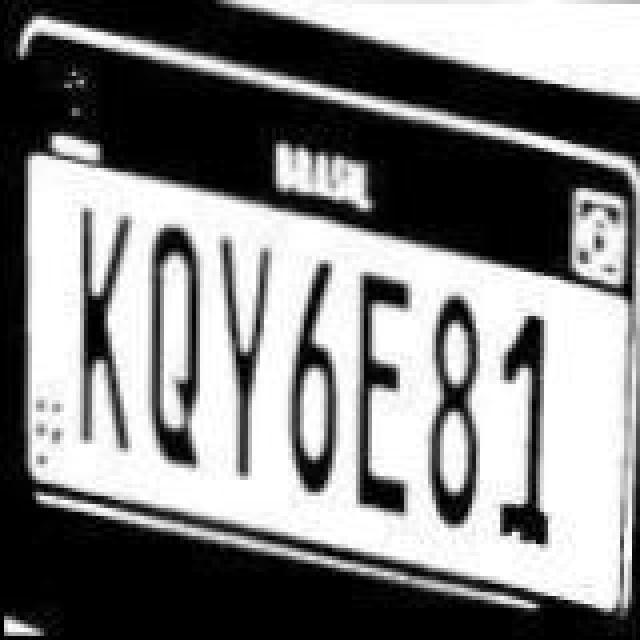1: (498, 308, 558, 556)
6: (282, 250, 342, 514)
8: (426, 290, 486, 542)
E: (354, 268, 414, 524)
K: (72, 206, 140, 458)
Q: (148, 222, 208, 482)
Y: (220, 232, 280, 496)
